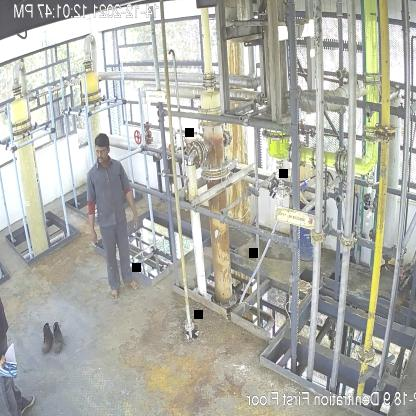no_shoes: (110, 288, 122, 302), (124, 280, 142, 289)
shoes: (49, 320, 65, 354), (40, 323, 52, 353)
